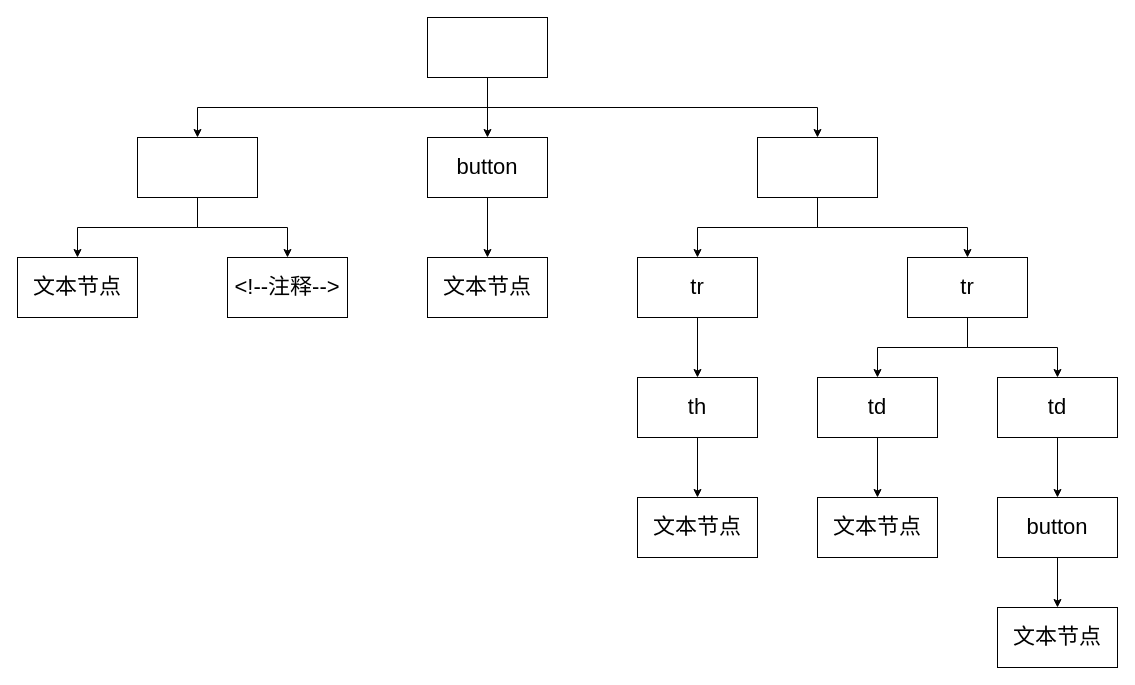
This 1135x685 diagram has some shape labels left out. The shapes that lost their labels are listed below. From the top down, each one's box as (x1, y1, x2, y2) in pixels, then its label:
(426, 16, 548, 78): div
(136, 136, 258, 198): h1
(756, 136, 878, 198): table
